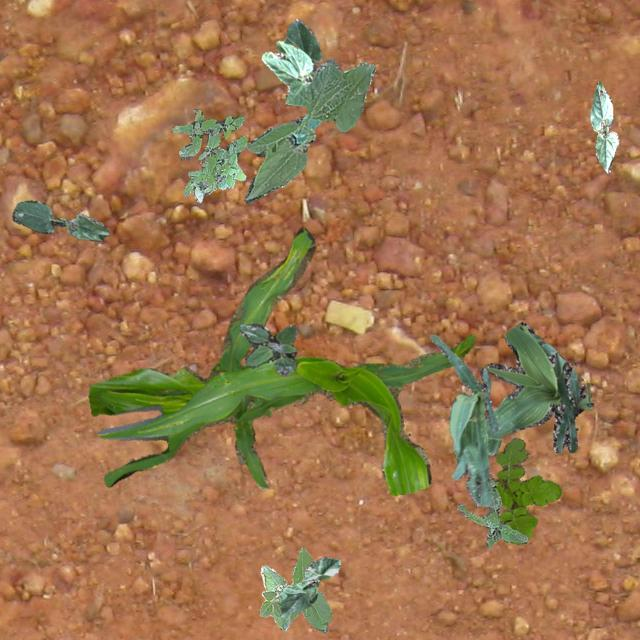crop: (87, 226, 473, 494), (243, 58, 374, 204), (483, 321, 592, 454), (428, 334, 496, 506), (258, 546, 330, 632), (260, 18, 320, 106), (12, 200, 108, 240), (278, 556, 339, 616), (588, 80, 618, 172)
weed: (494, 436, 560, 544), (172, 106, 246, 202), (456, 472, 526, 546), (238, 322, 296, 374)
